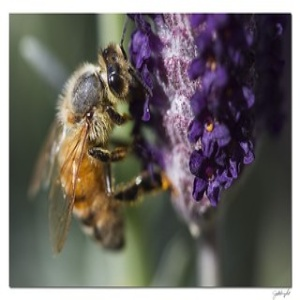bee: (26, 44, 133, 254)
